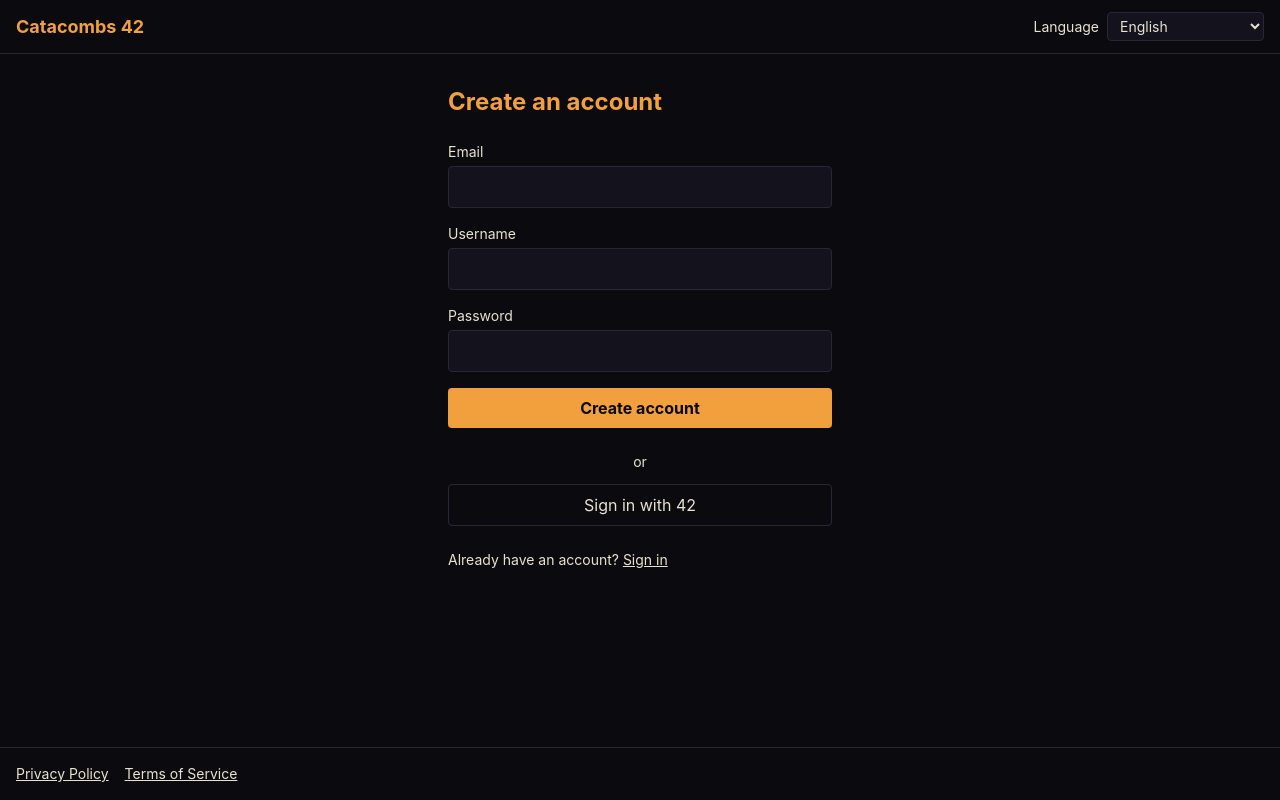
Test: Signup › 429 vira erro geral
expect the heading "Create an account" is shown: met, box top-left (448, 87), bottom-right (662, 116)
Type "nova@example.com" into the field labelled "Email" at (640, 187), box top-left (448, 166), bottom-right (832, 208)
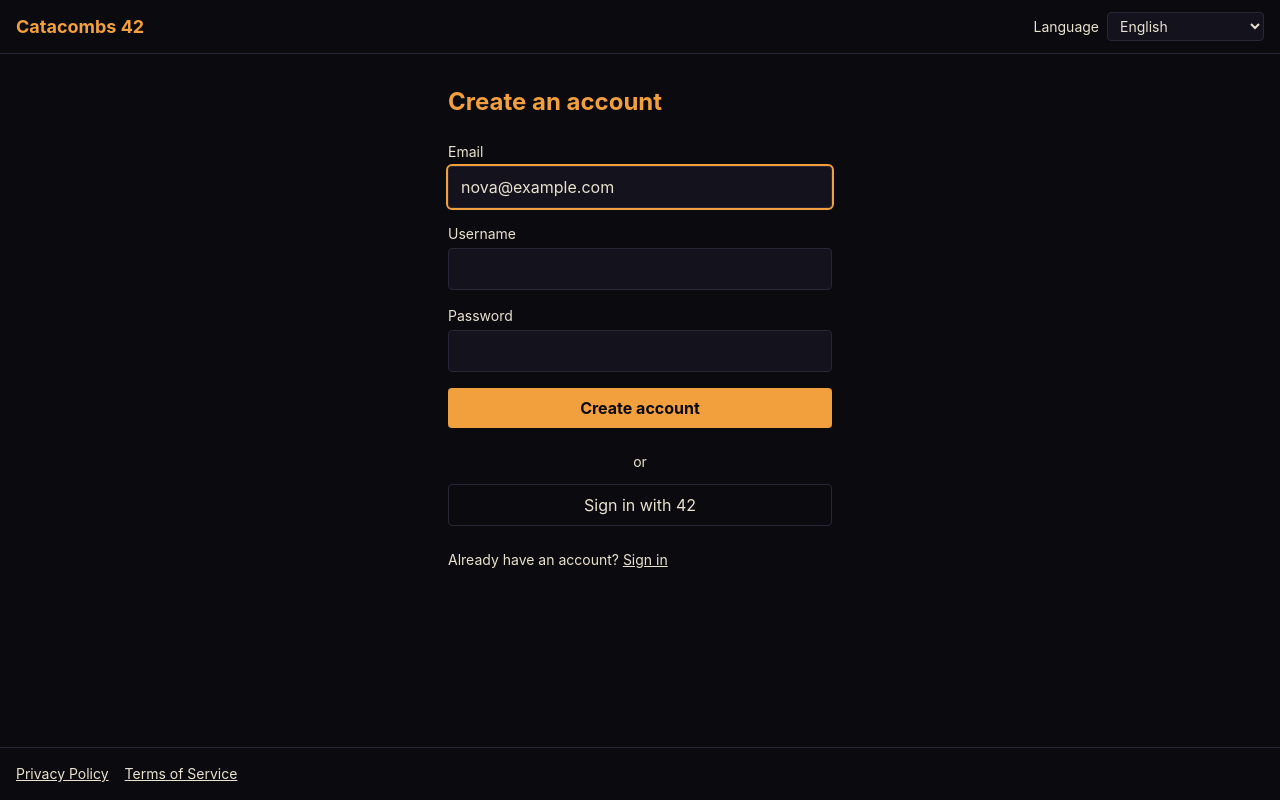
Type "nova_42" into the field labelled "Username" at (640, 269), box top-left (448, 248), bottom-right (832, 290)
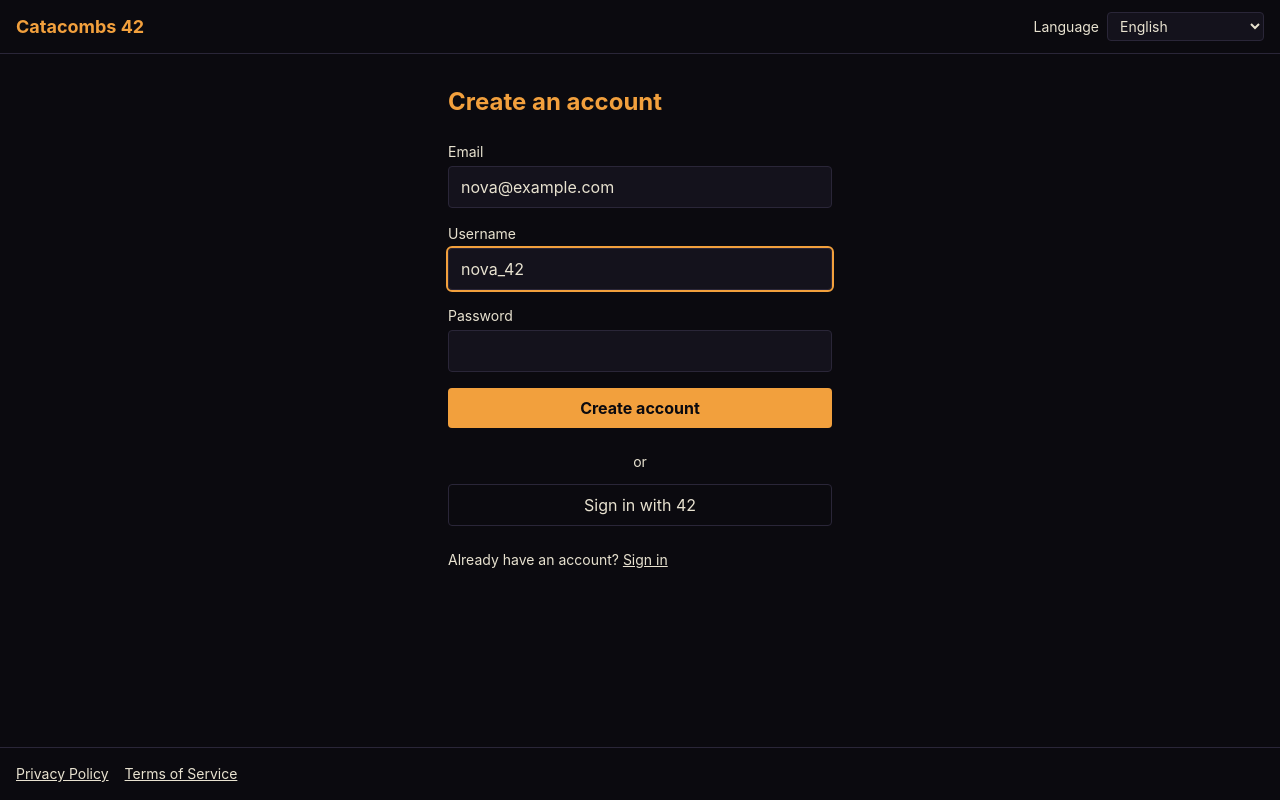
Type "osDda42x" into the password field labelled "Password" at (640, 351), box top-left (448, 330), bottom-right (832, 372)
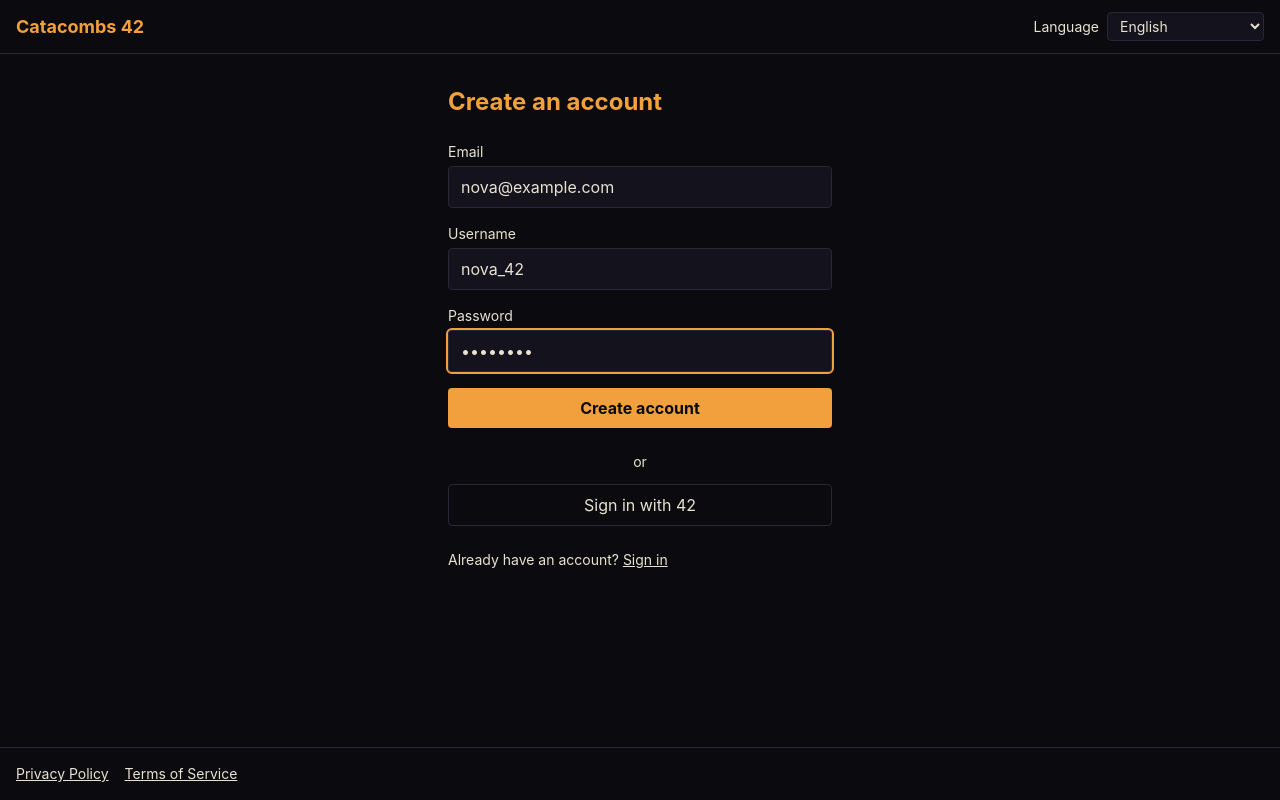
Click the button "Create account" at (640, 408), box top-left (448, 388), bottom-right (832, 428)
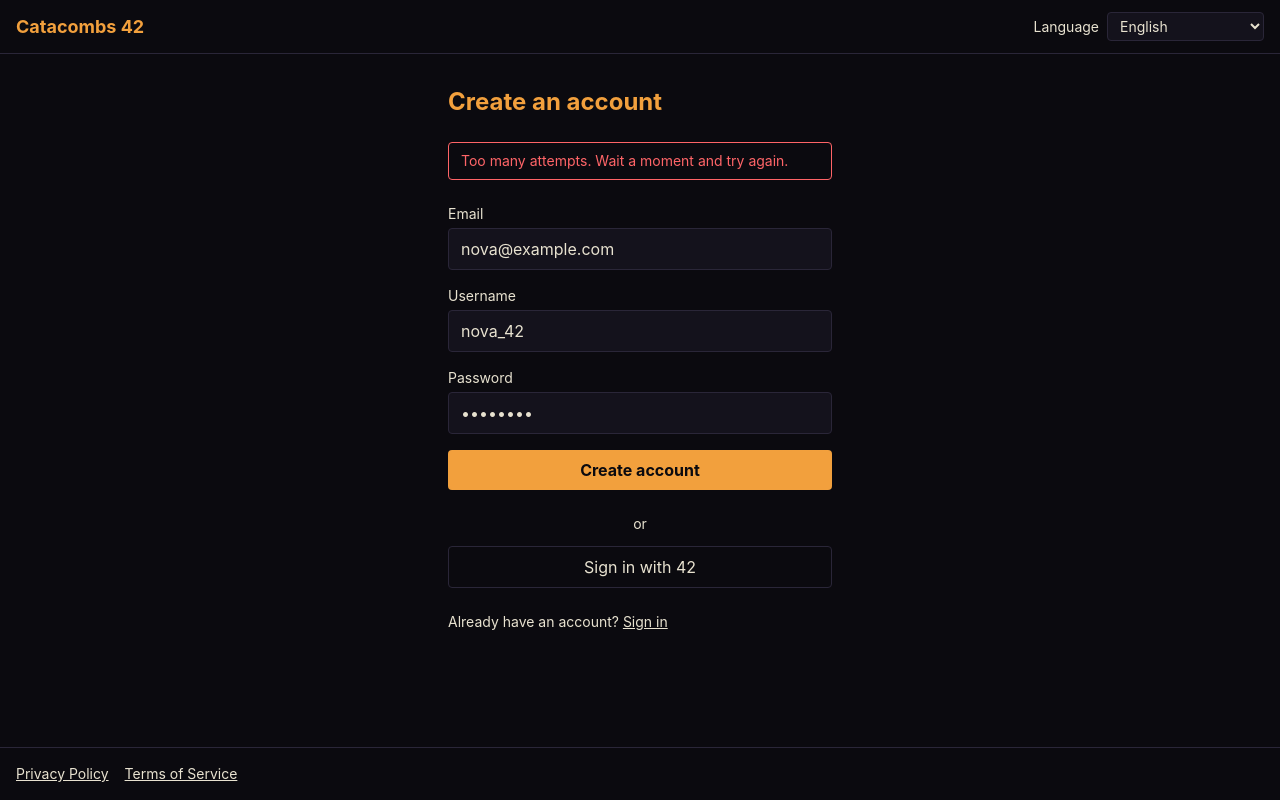
expect the message shows "Too many attempts.": met, box top-left (461, 152), bottom-right (788, 169)
